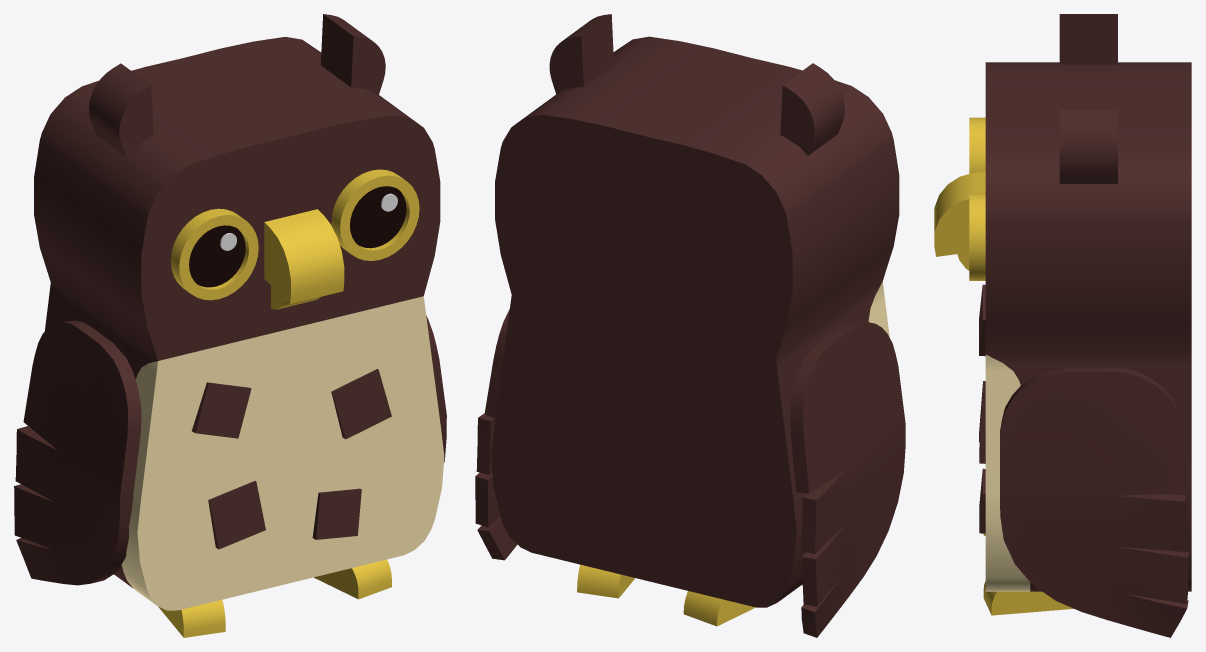
The model's file is owl.gltf.
3 views of the same model, side by side, from view 1: azimuth 30°, elevation 25°; view 2: azimuth 150°, elevation 25°; view 3: azimuth 270°, elevation 25° (orthographic). The views are drawn at different scales.
Parts seen in each view (by area): view 1: Cube.027, Cube.028, Circle.1957, Cube.030, Cube.033, Cube.029; view 2: Cube.027, Cube.028, Cube.030; view 3: Cube.027, Cube.028, Cube.030, Cube.029, Circle.1957, Cube.033.
Part boxes in pixels (left/top/right/bottom): Cube.027: left=34, top=36, right=444, bottom=610; Cube.028: left=14, top=315, right=446, bottom=585; Circle.1957: left=170, top=169, right=419, bottom=300; Cube.030: left=89, top=14, right=391, bottom=637; Cube.033: left=192, top=369, right=391, bottom=549; Cube.029: left=264, top=209, right=344, bottom=309; Cube.027: left=491, top=36, right=899, bottom=607; Cube.028: left=475, top=309, right=905, bottom=637; Cube.030: left=549, top=14, right=844, bottom=626; Cube.027: left=985, top=62, right=1191, bottom=591; Cube.028: left=1000, top=367, right=1189, bottom=637; Cube.030: left=983, top=14, right=1117, bottom=615; Cube.029: left=934, top=171, right=985, bottom=270; Circle.1957: left=969, top=117, right=985, bottom=280; Cube.033: left=979, top=284, right=985, bottom=533.
Size of the model in its own units: 1.38 by 2.02 by 0.932.
5 materials, 1 textured.
